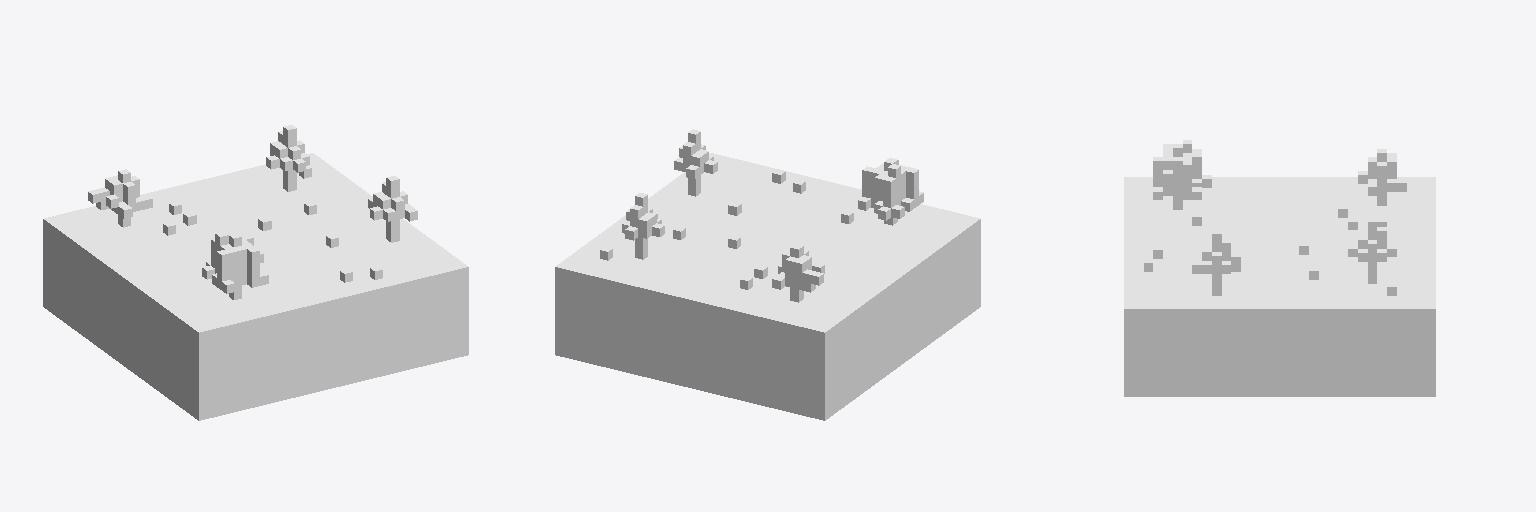
File: Overworld_Land_16.obj
3 renders of one model, left to right at view 1: azimuth 30°, elevation 25°; view 2: azimuth 150°, elevation 25°; view 3: azimuth 270°, elevation 25°, orthographic.
Visible parts, largest first — view 1: object 1; view 2: object 1; view 3: object 1.
Boxes of the visible parts, <box> form: object 1: <box>43,125,468,420</box>; object 1: <box>555,129,980,420</box>; object 1: <box>1124,140,1435,396</box>.
Size of the model in its own units: 3.2 by 1.7 by 3.2.